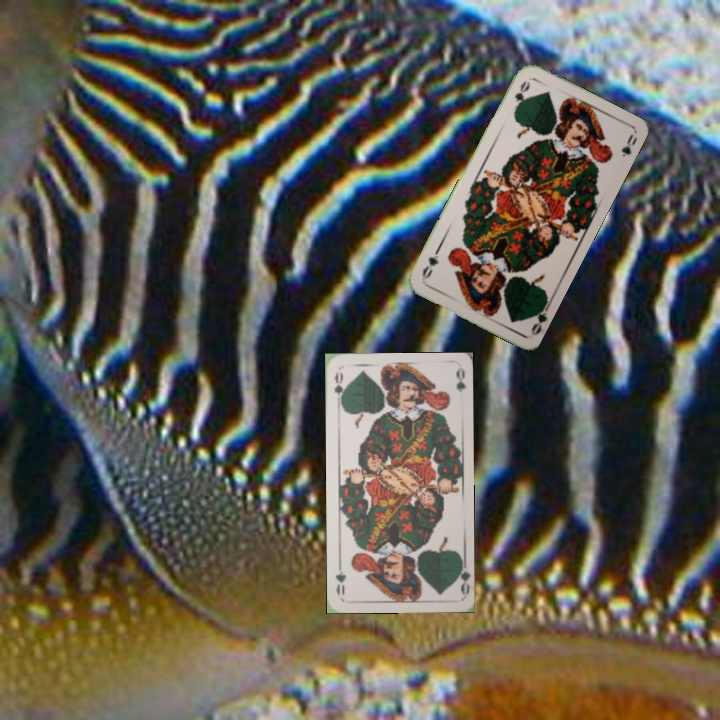GO: (526, 298, 553, 338), (510, 77, 533, 115), (450, 556, 470, 596), (330, 368, 348, 408)
